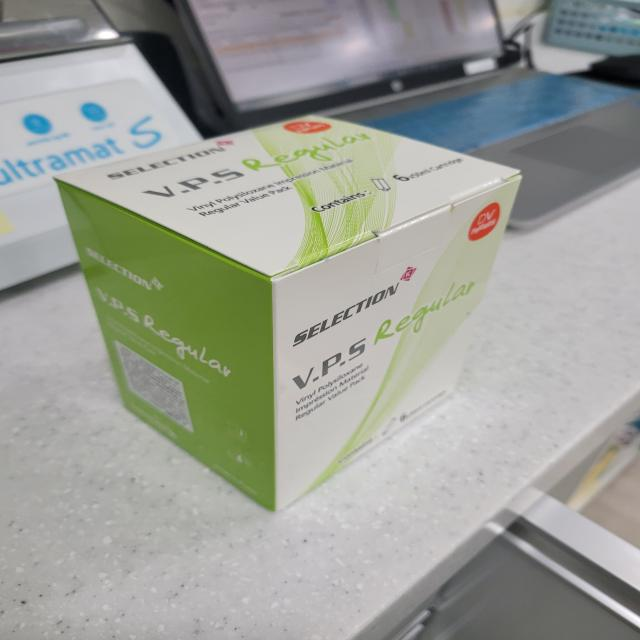impression: (42, 104, 536, 529)
